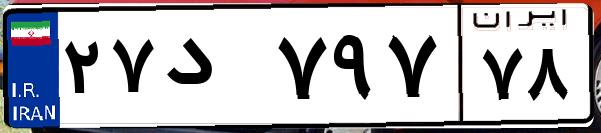2: (57, 26, 110, 100)
7: (270, 28, 330, 110), (385, 28, 445, 110), (475, 38, 525, 113), (110, 28, 158, 98)
8: (525, 38, 570, 115)
9: (330, 28, 385, 110)
د: (158, 20, 270, 120)
